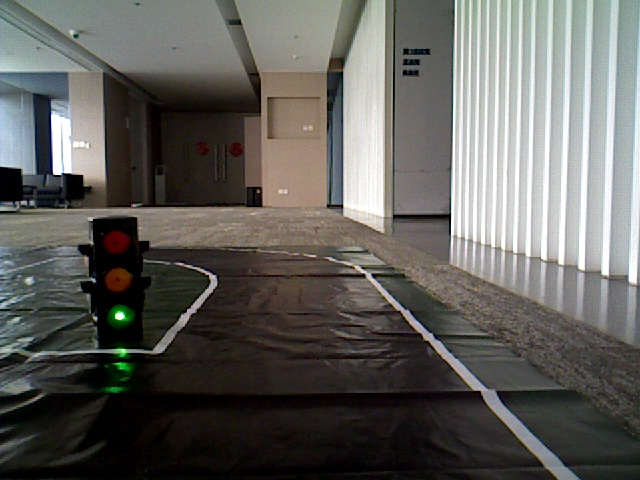green: (95, 222, 135, 335)
